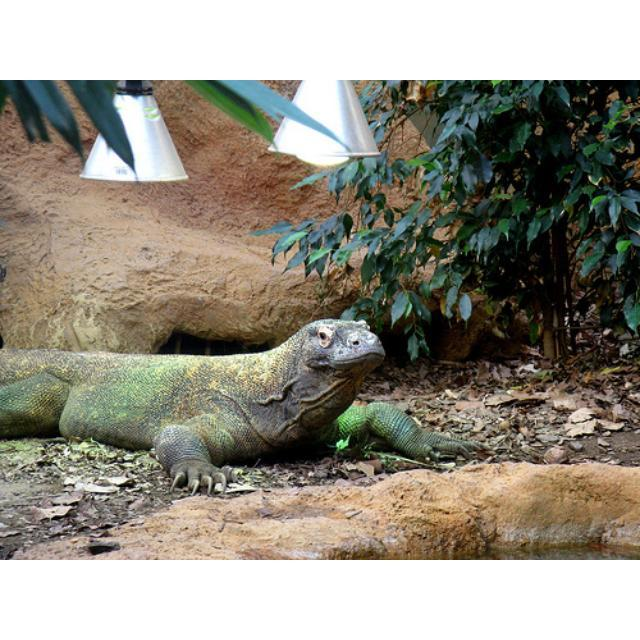KomodoDragon: (0, 316, 488, 497)
